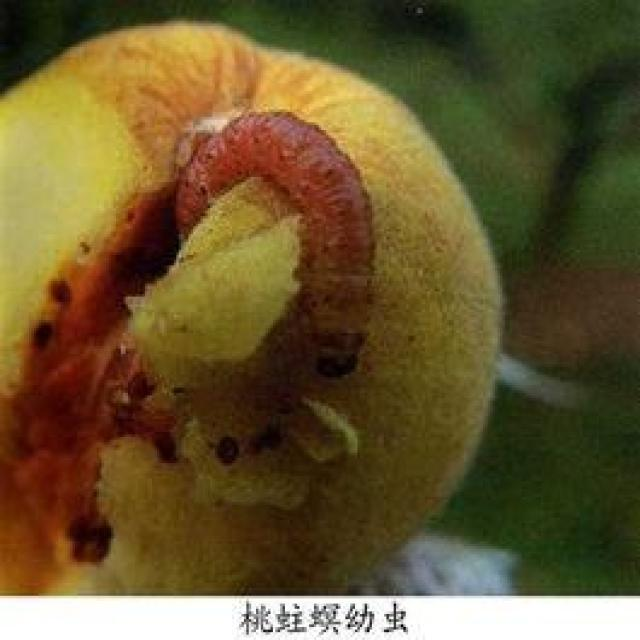peach borer: (165, 103, 383, 384)
